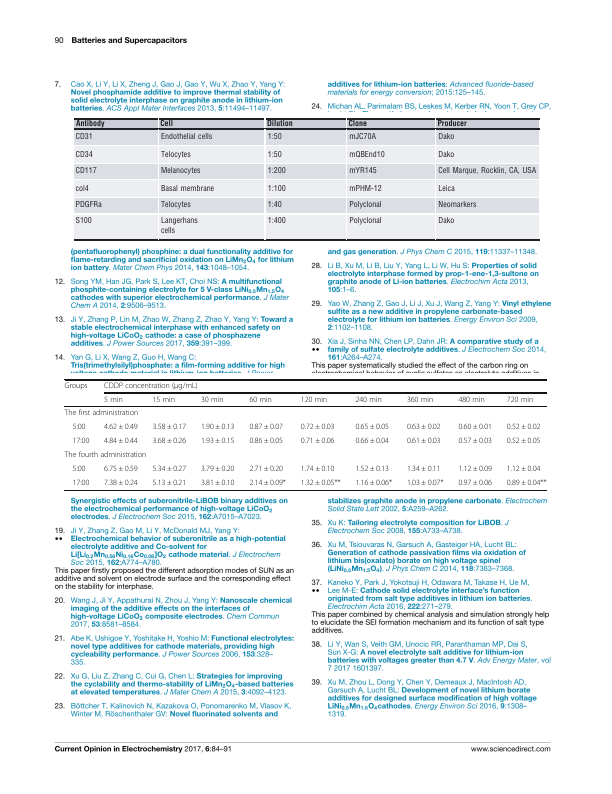borderless: (74, 117, 540, 239), (63, 378, 547, 490)
cell: (437, 166, 537, 176), (103, 382, 199, 391), (64, 450, 147, 460), (159, 216, 198, 236), (64, 408, 139, 418), (159, 184, 215, 193), (159, 132, 213, 141), (159, 166, 201, 176), (300, 478, 341, 488), (506, 478, 547, 488), (437, 200, 477, 210), (248, 478, 287, 488), (354, 478, 393, 488), (406, 478, 444, 488), (103, 422, 139, 432), (151, 422, 187, 432), (248, 422, 284, 432), (354, 422, 390, 432), (457, 422, 493, 432), (103, 436, 139, 446), (151, 436, 187, 446), (248, 436, 284, 446), (354, 436, 390, 446), (457, 436, 493, 446), (103, 464, 139, 474), (151, 464, 187, 474), (248, 464, 284, 474), (354, 464, 390, 474), (457, 464, 493, 474), (103, 478, 139, 488), (151, 478, 187, 488), (457, 478, 493, 488), (200, 422, 235, 432), (300, 422, 335, 432), (406, 422, 441, 432), (506, 422, 541, 432), (200, 436, 235, 446), (300, 436, 335, 446), (406, 436, 441, 446), (506, 436, 541, 446), (200, 464, 235, 474), (300, 464, 335, 474), (406, 464, 441, 474), (506, 464, 541, 474), (200, 478, 235, 488), (348, 200, 382, 210), (348, 216, 382, 226), (348, 150, 385, 159), (159, 200, 191, 210), (74, 119, 105, 129), (436, 119, 467, 129), (348, 184, 382, 193), (348, 166, 377, 176), (159, 150, 191, 159), (265, 119, 293, 129), (74, 200, 102, 210), (354, 395, 383, 404), (457, 395, 486, 404), (348, 132, 376, 141), (300, 395, 328, 404), (406, 395, 434, 404), (506, 395, 534, 404), (74, 166, 97, 176), (151, 395, 176, 404), (248, 395, 273, 404), (64, 382, 88, 391), (200, 395, 224, 404), (347, 119, 367, 129), (266, 166, 286, 176), (266, 216, 286, 226), (71, 436, 90, 446), (71, 478, 90, 488), (103, 395, 124, 404), (266, 184, 286, 193), (74, 216, 92, 226), (437, 216, 455, 226), (74, 132, 93, 141), (74, 150, 93, 159), (437, 132, 455, 141), (437, 150, 455, 159), (437, 184, 455, 193), (266, 200, 282, 210), (71, 422, 86, 432), (71, 464, 86, 474), (266, 132, 282, 141), (266, 150, 282, 159), (159, 119, 173, 129), (74, 184, 89, 193)
